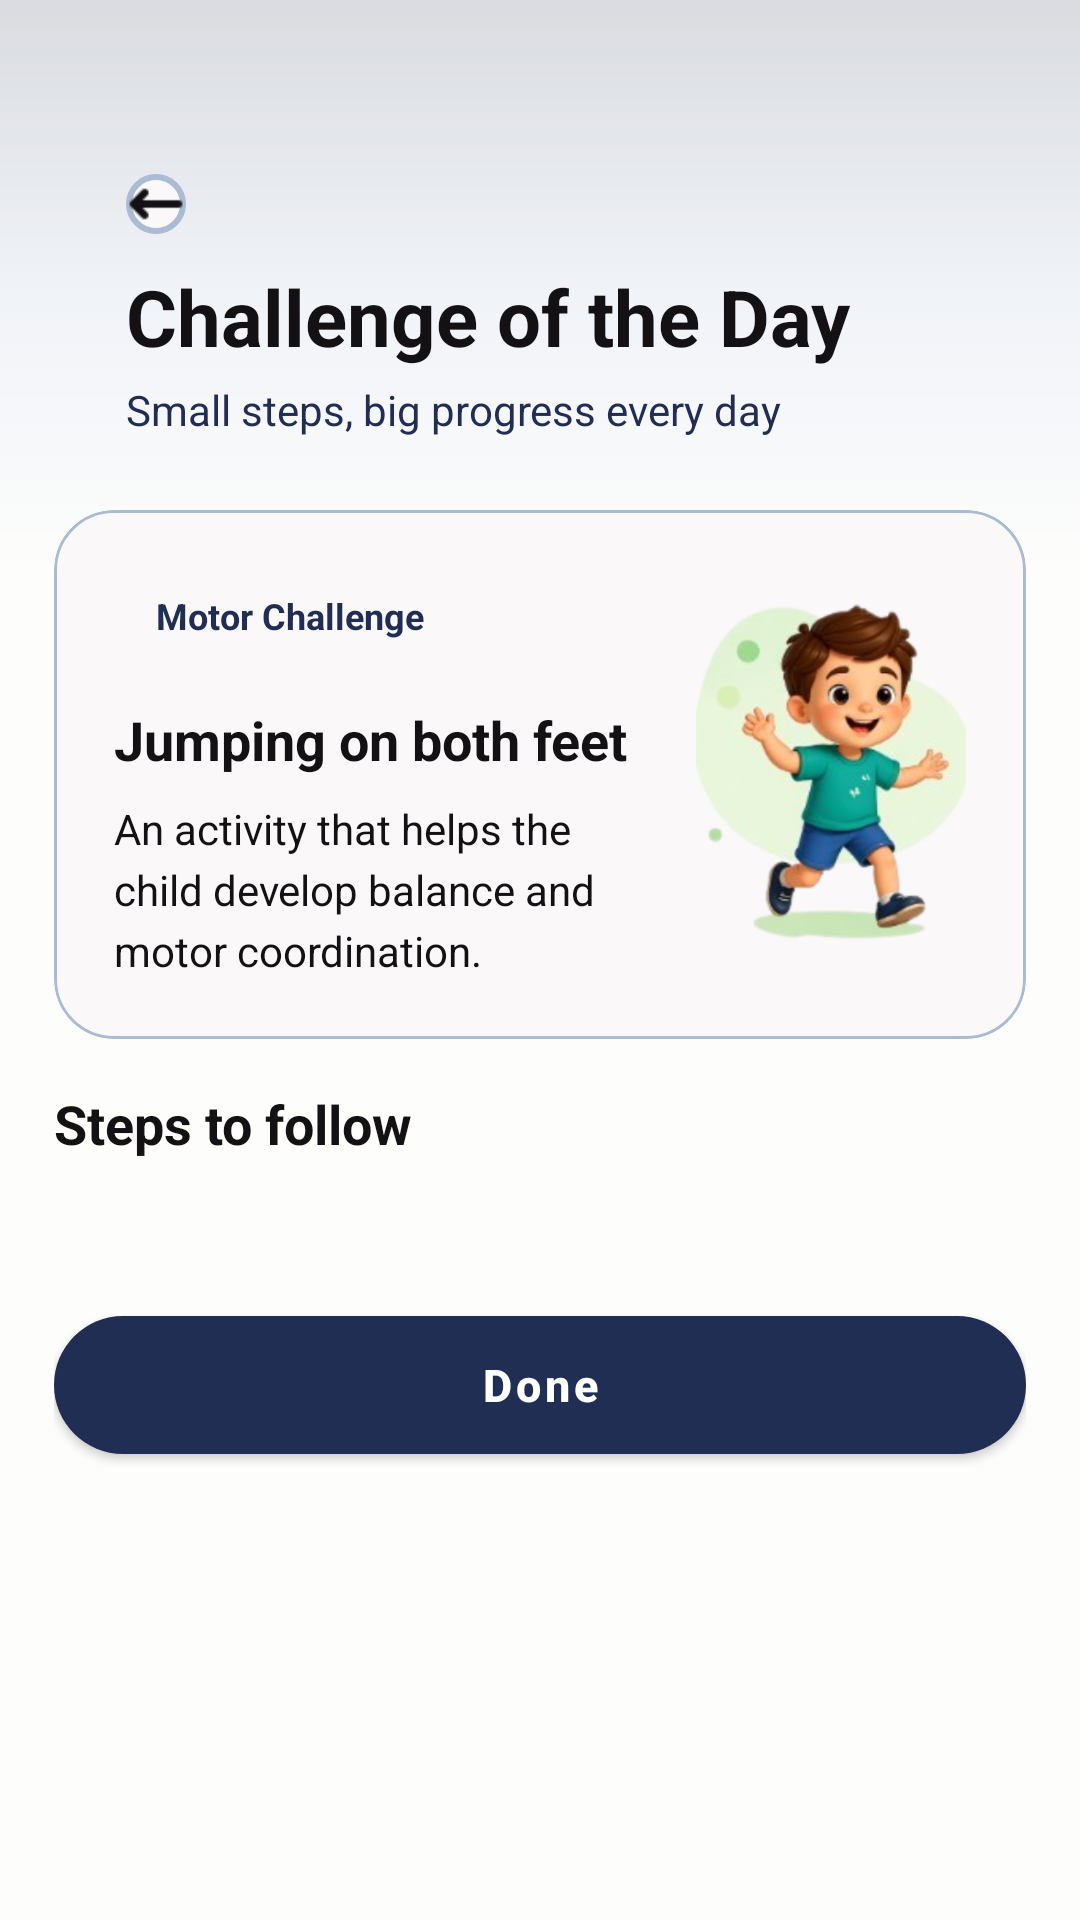

Named icons in this screenshot (1080px x 1920px) and their bounding boxes, bbox=(x1, y1, x2, y2):
kid motor: bbox=(696, 604, 966, 938)
